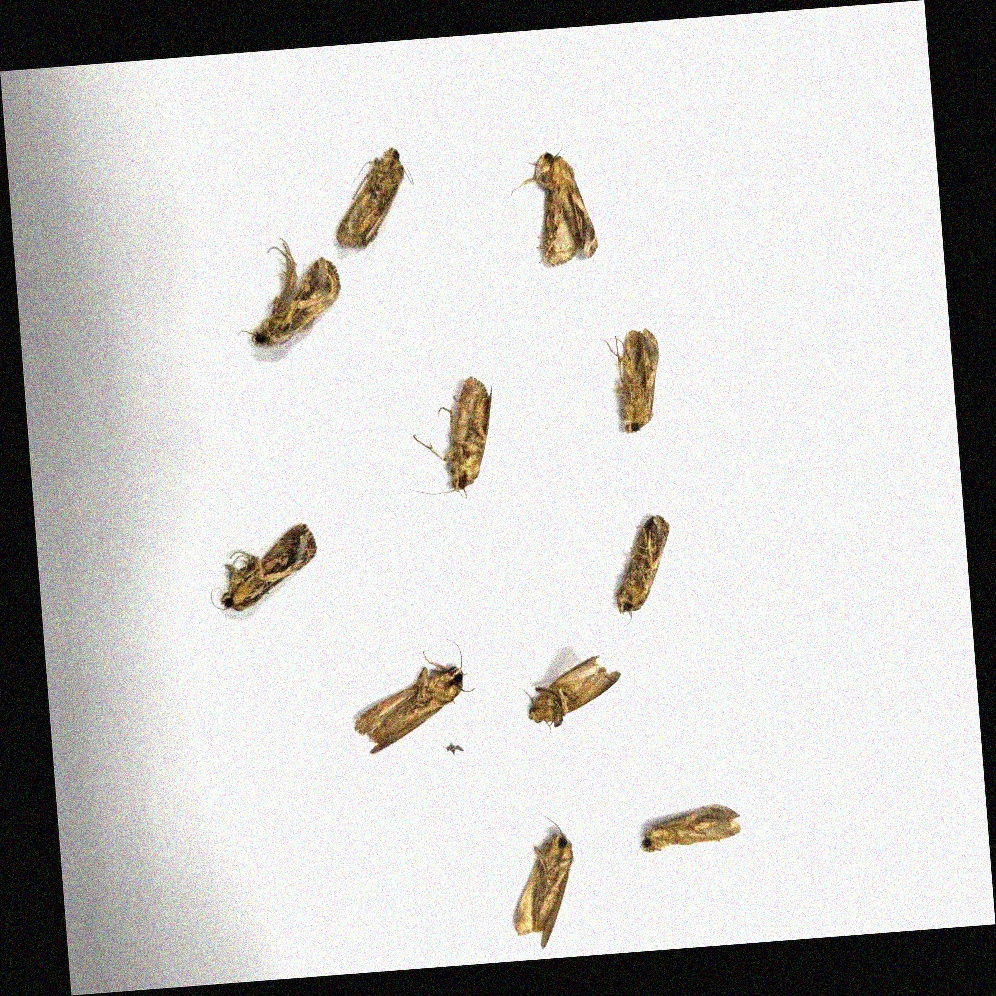Spodoptera litura: (352, 627, 477, 751), (232, 236, 341, 346), (403, 376, 497, 501), (509, 135, 596, 268), (510, 795, 576, 950), (507, 657, 623, 743), (634, 805, 743, 892), (208, 526, 319, 610), (332, 147, 416, 248), (597, 515, 673, 625), (602, 327, 663, 434)
